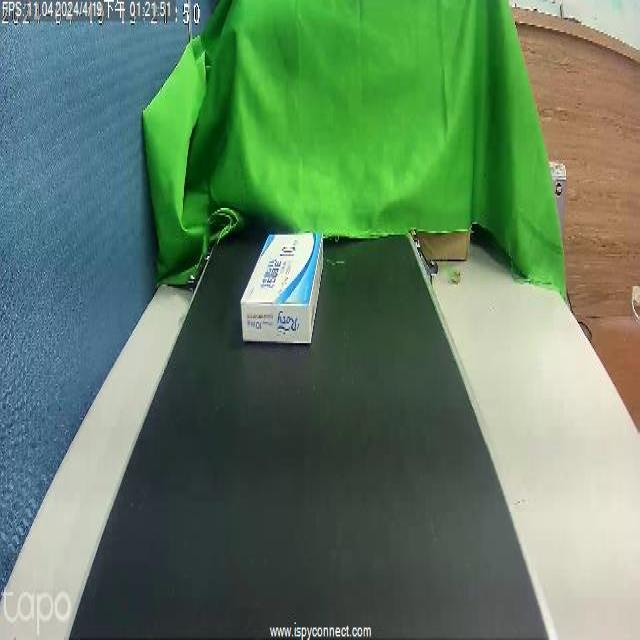box: (232, 236, 325, 374)
